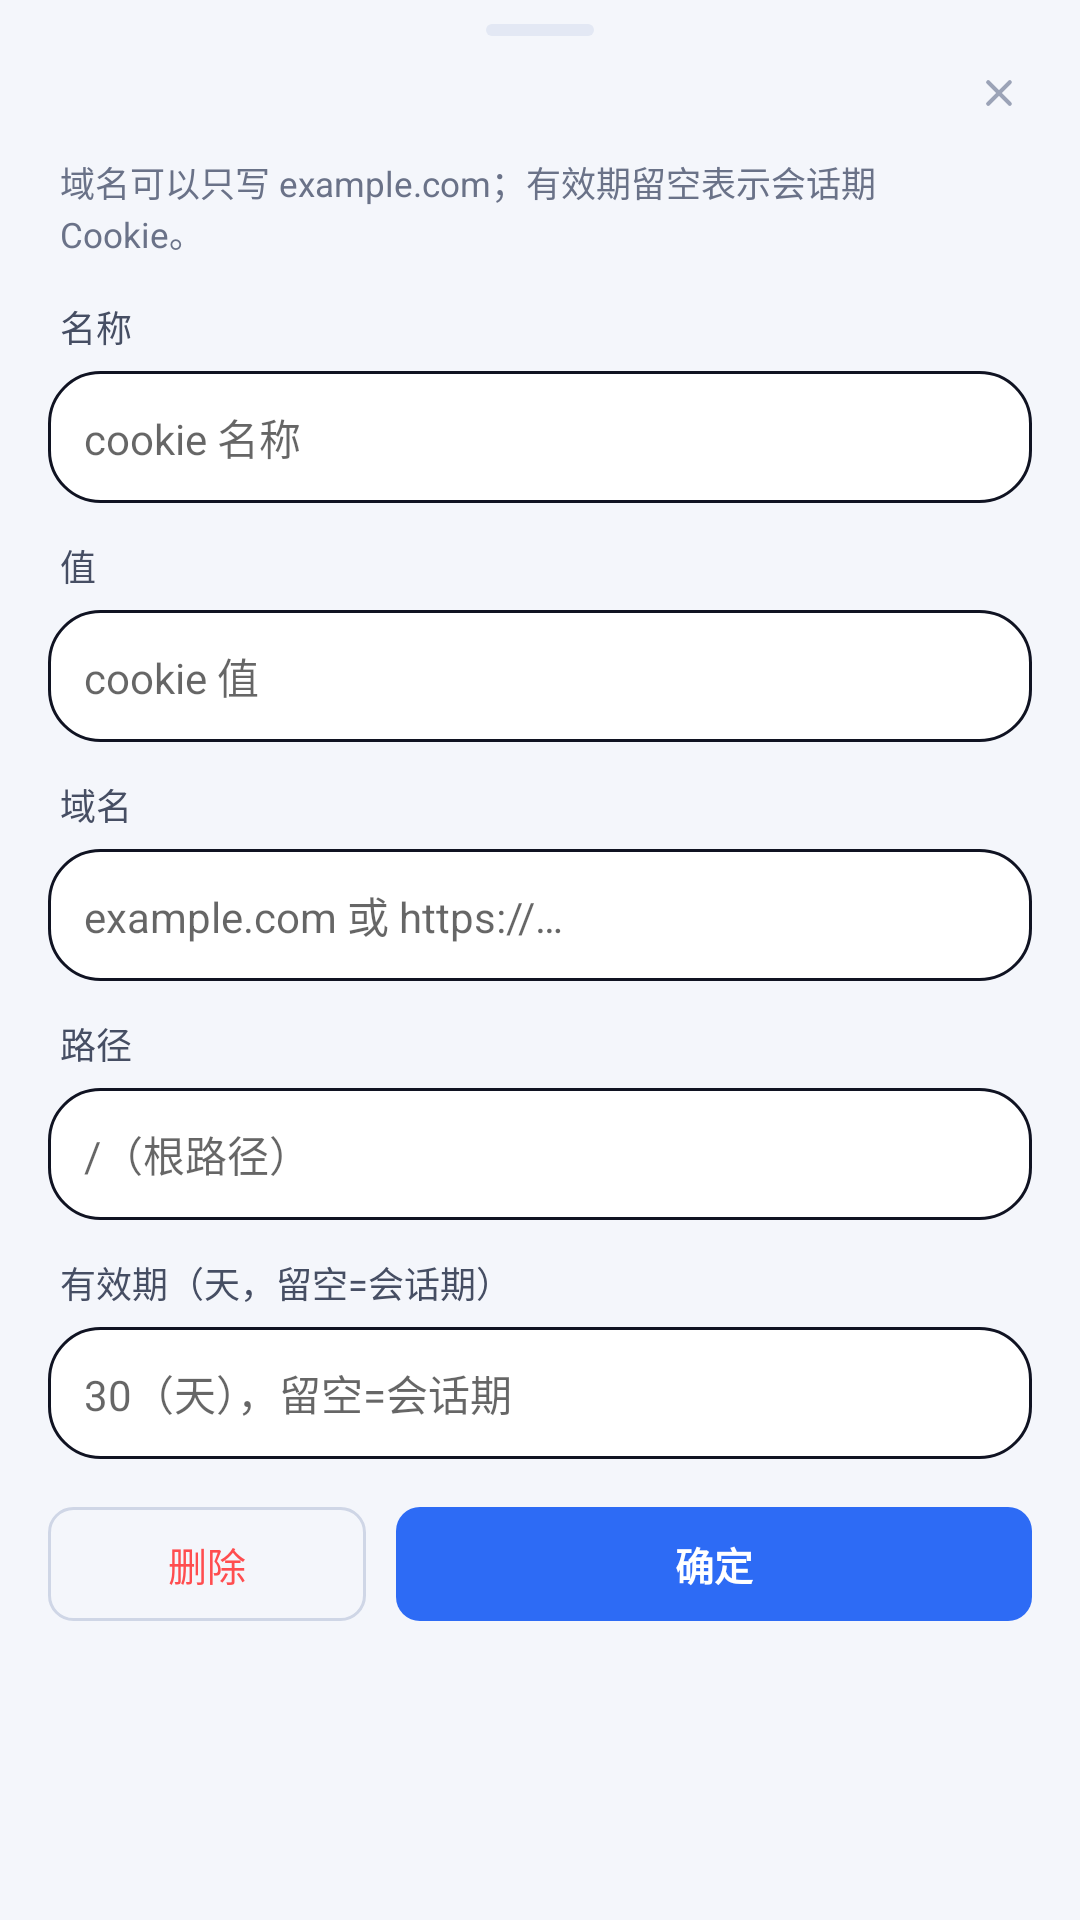

Icon click points for this 1080×1920 phone screenshot, format [x,y]:
关闭: [999,93]
